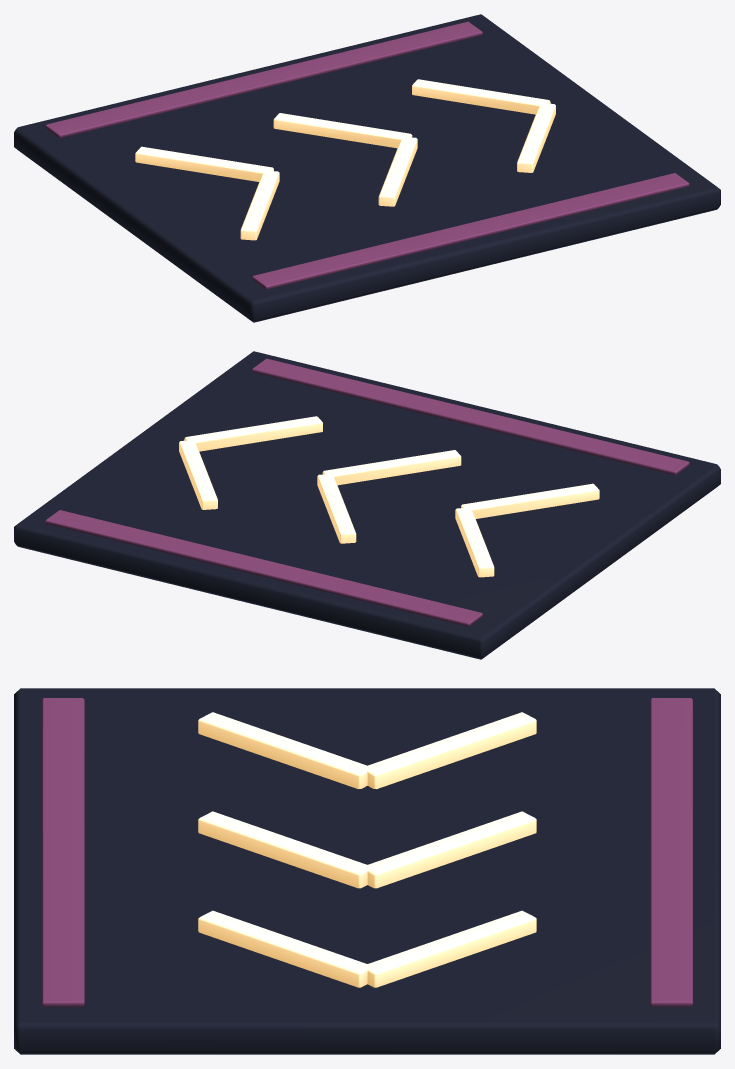
The model's file is speedway_night_boost_pad.glb.
3 renders of one model, top to bottom at view 1: azimuth 30°, elevation 25°; view 2: azimuth 150°, elevation 25°; view 3: azimuth 270°, elevation 25°, orthographic. The views are drawn at different scales.
Visible parts, largest first — view 1: Grippy boost pad; view 2: Grippy boost pad; view 3: Grippy boost pad.
Part boxes in pixels (x1,y1,x2,y2): Grippy boost pad: [14, 14, 720, 322]; Grippy boost pad: [14, 351, 720, 659]; Grippy boost pad: [14, 688, 720, 1054].
Bounding box in the file's own units: 3 × 0.2005 × 2.65.
